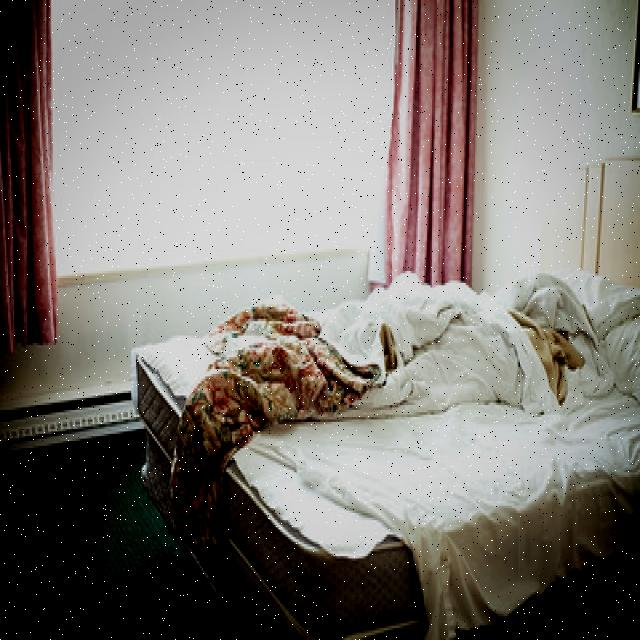bed: (128, 238, 640, 547)
